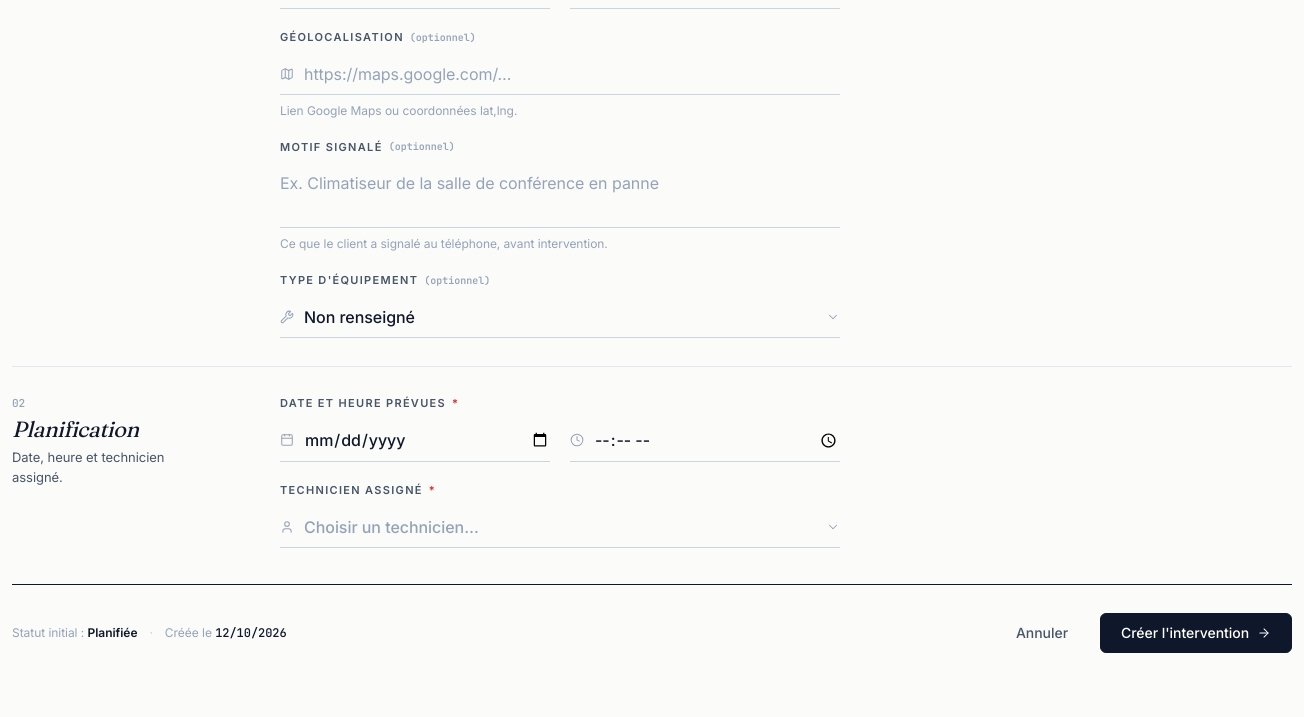
Test case: InterventionForm (creation) › affiche le recapitulatif des champs requis lorsque le formulaire est vide
(page scrolled)
Click the dropdown named "Technicien assigné": (391, 527) [280,507,840,548]
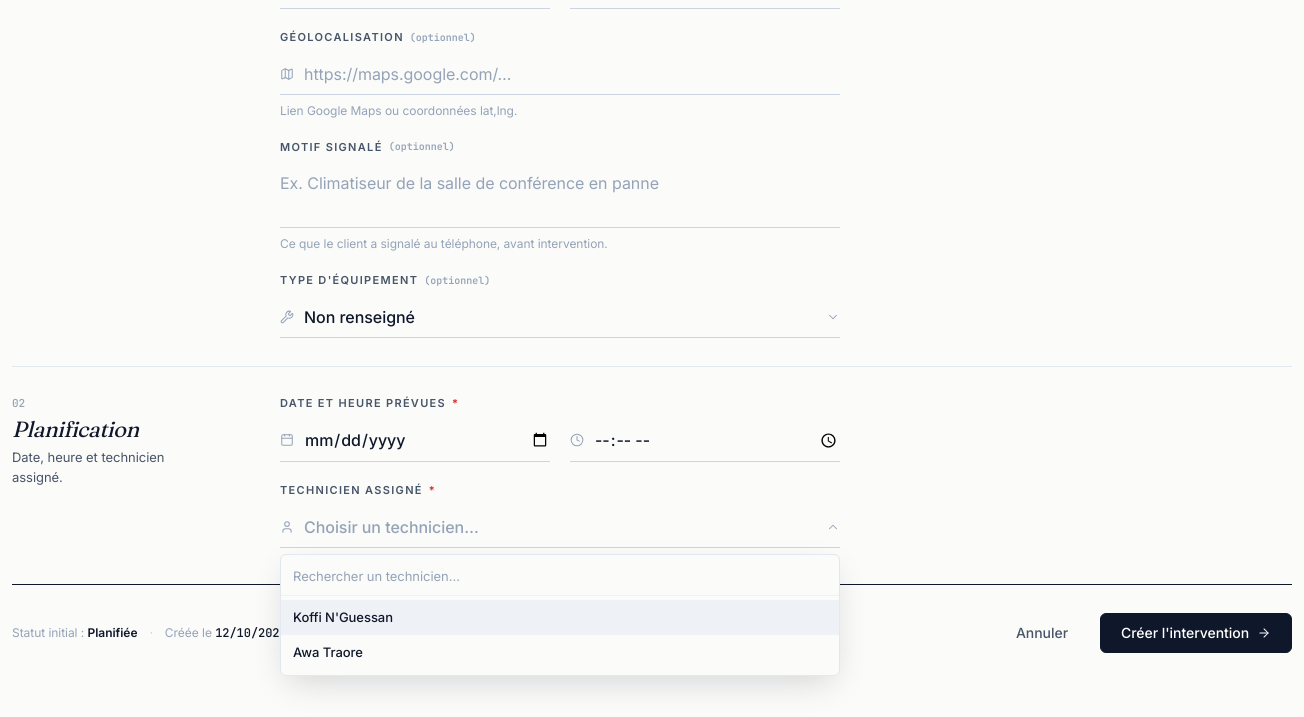
Result: the option "Awa Traore" is shown at [293,644,363,660]
Press Escape in the dropdown named "Technicien assigné", box [280,507,840,548]
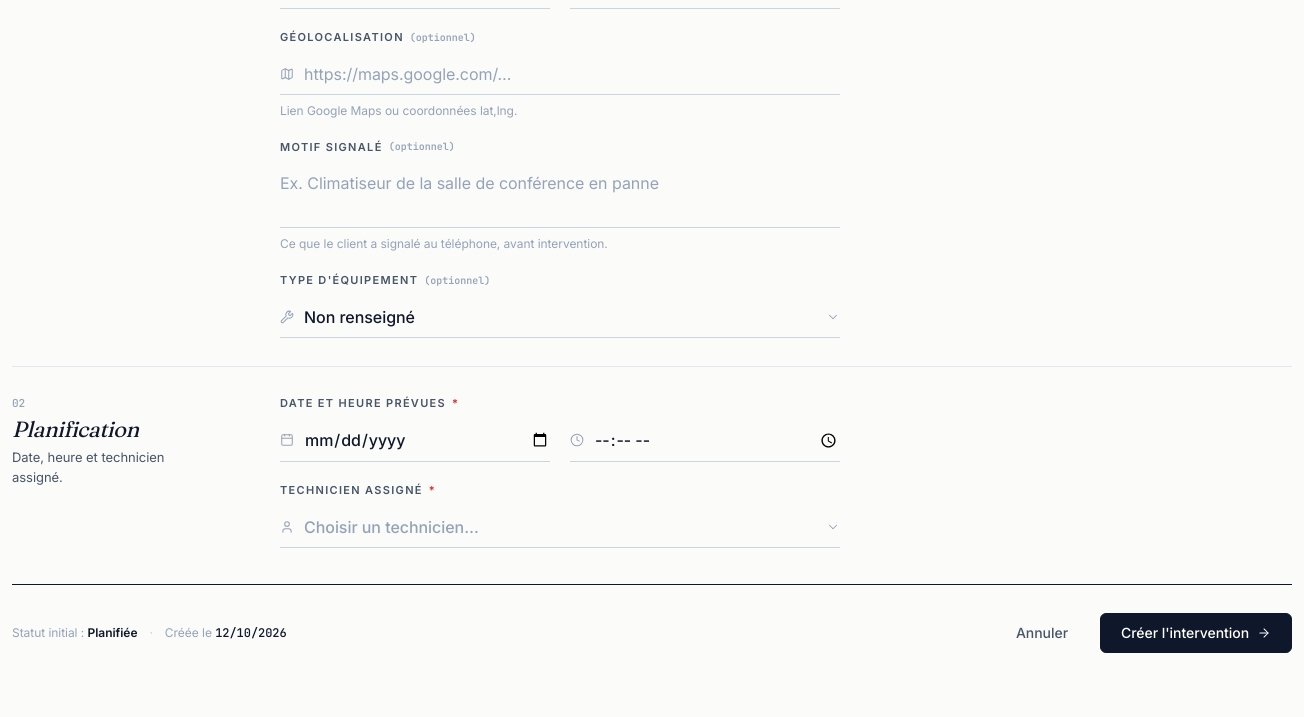
Click the button "Créer l'intervention": (1196, 633) [1100,613,1292,653]
(page scrolled)
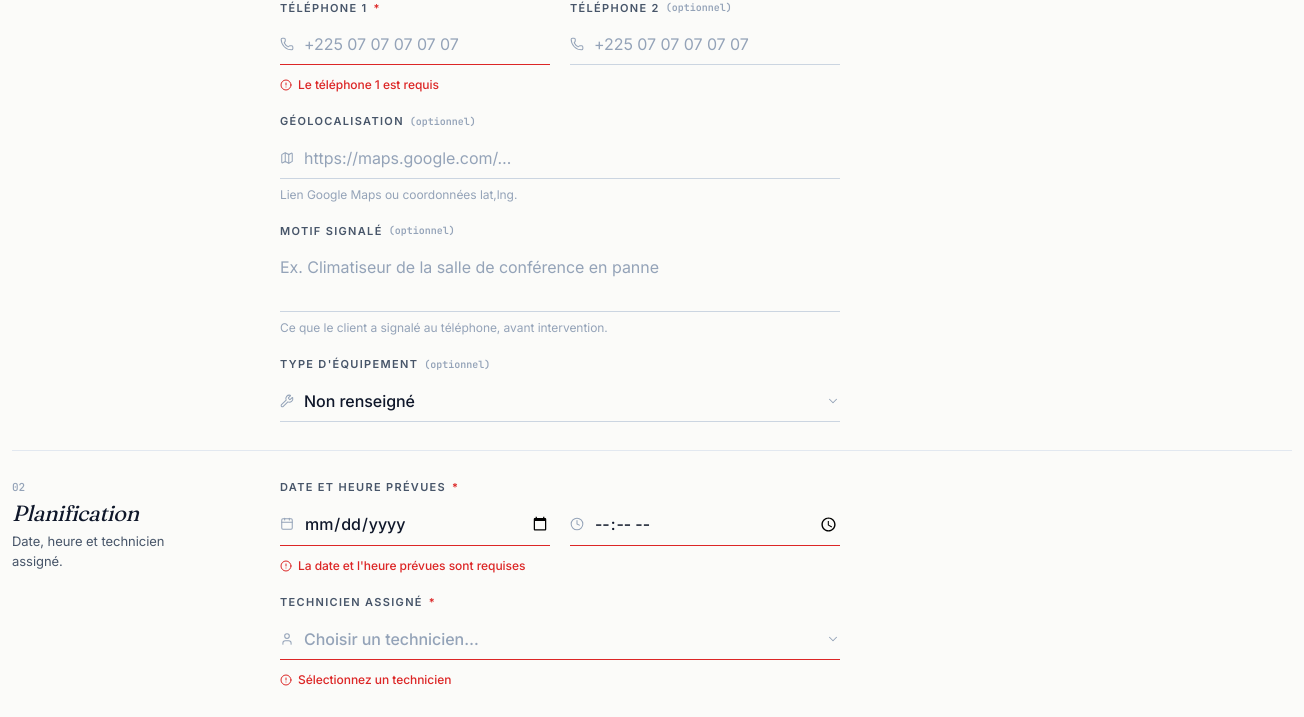
Result: the text "Sélectionnez un technicien" is shown at [280,672,451,687]
